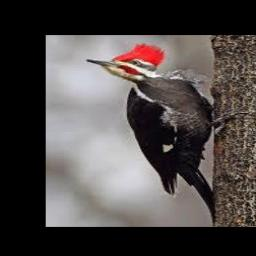Woodpecker: (87, 44, 248, 225)
